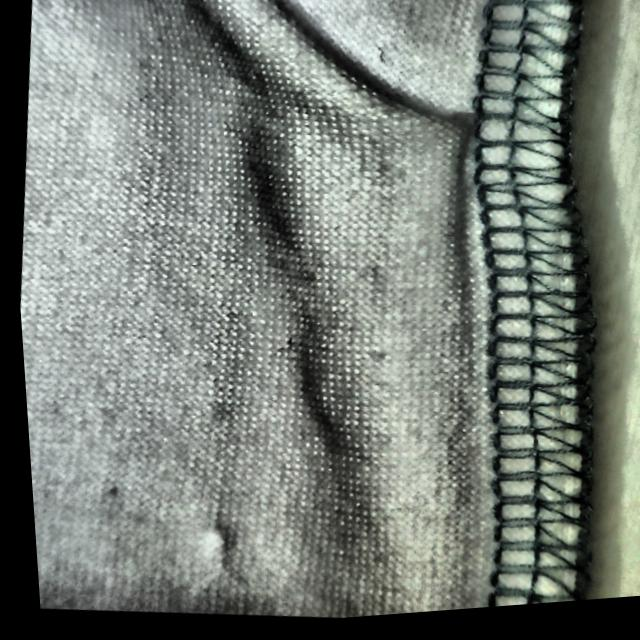seam: (315, 47, 640, 269)
